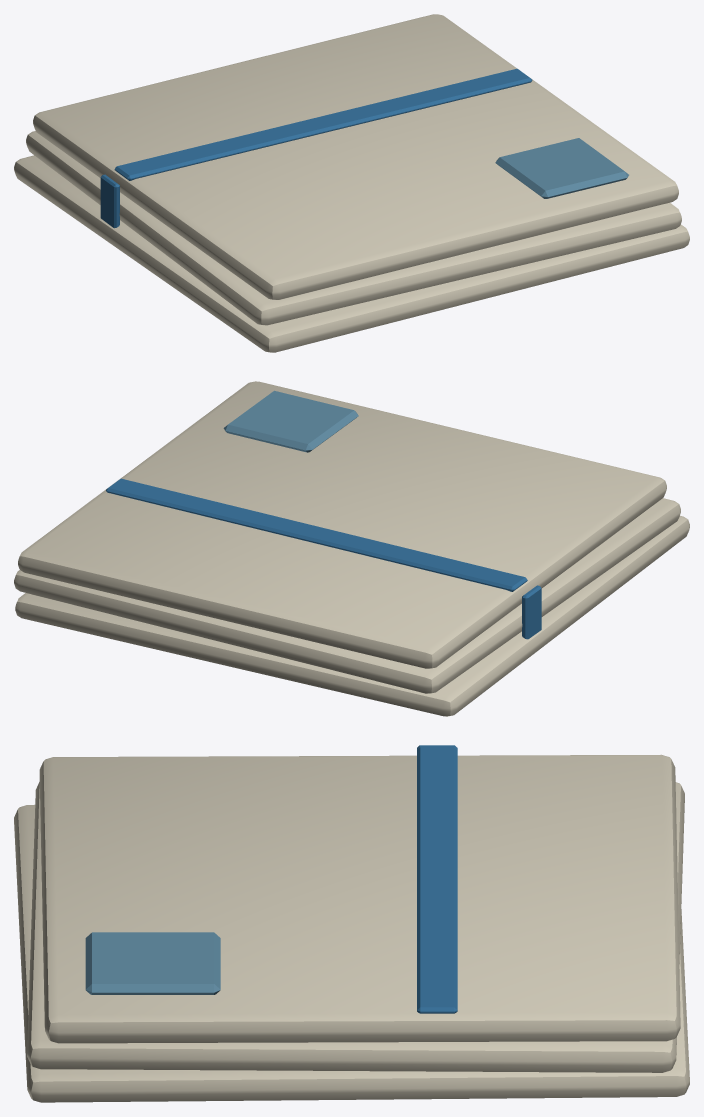
The model's file is sc-gauze-swab.glb.
The picture shows the model from 3 angles, top to bottom: view 1: azimuth 30°, elevation 25°; view 2: azimuth 150°, elevation 25°; view 3: azimuth 270°, elevation 25°; orthographic projection. The views are drawn at different scales.
Parts seen in each view (by area): view 1: sc-gauze-swab; view 2: sc-gauze-swab; view 3: sc-gauze-swab.
Part boxes in pixels (x1=…): sc-gauze-swab: x1=14, y1=14, x2=689, y2=352; sc-gauze-swab: x1=14, y1=381, x2=689, y2=716; sc-gauze-swab: x1=14, y1=745, x2=689, y2=1102.
Size of the model in its own units: 0.0999 by 0.0155 by 0.0999.
